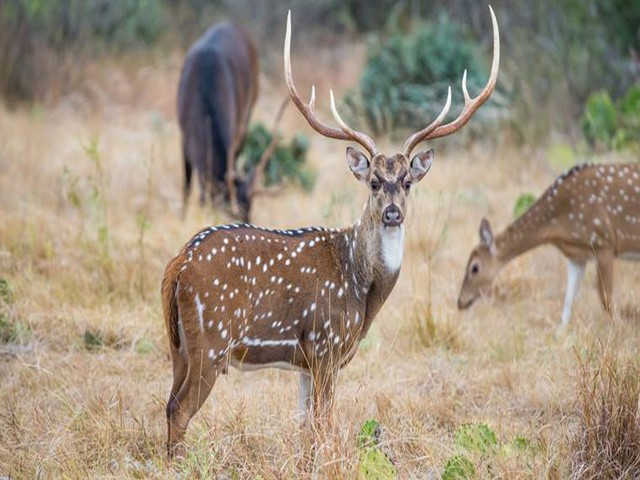deer: (162, 1, 510, 477), (458, 148, 640, 321), (176, 23, 266, 221)
